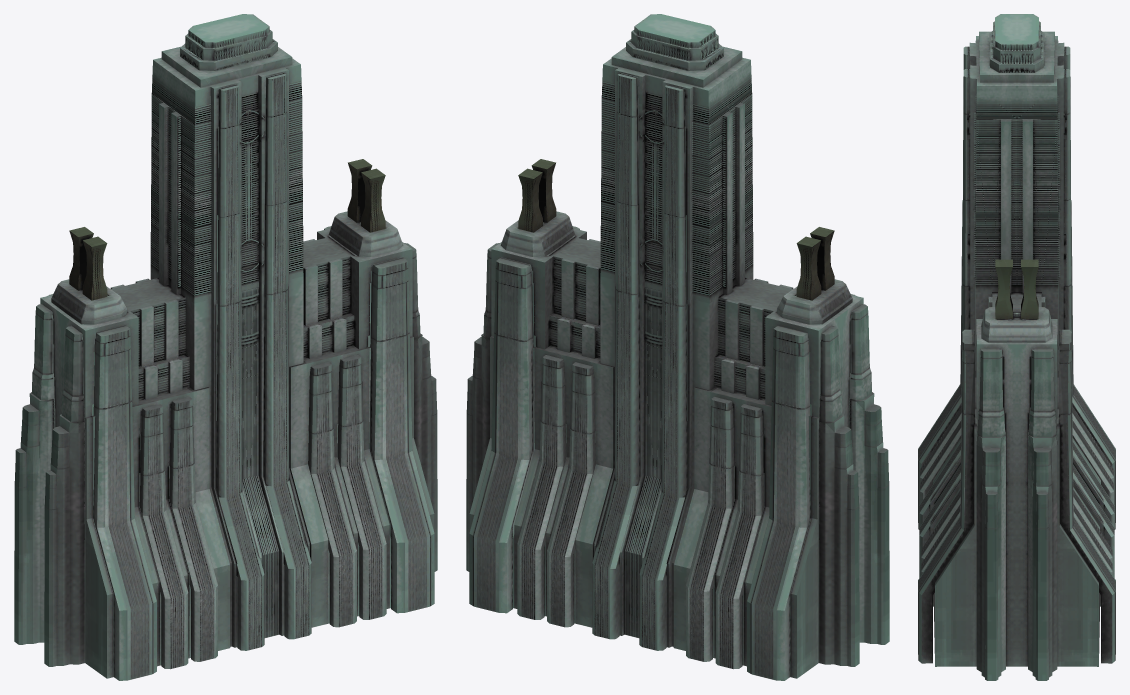
File: BuldingH.obj
3 renders of one model, left to right at view 1: azimuth 30°, elevation 25°; view 2: azimuth 150°, elevation 25°; view 3: azimuth 270°, elevation 25°, orthographic. The views are drawn at different scales.
Parts seen in each view (by area): view 1: Building_H; view 2: Building_H; view 3: Building_H.
Boxes of the visible parts, x1,y1,x2,y2 form: Building_H: (14,14,437,680); Building_H: (466,14,889,680); Building_H: (918,14,1115,680).
Size of the model in its own units: 4178 by 5901 by 1889.
1 material, 1 textured.
